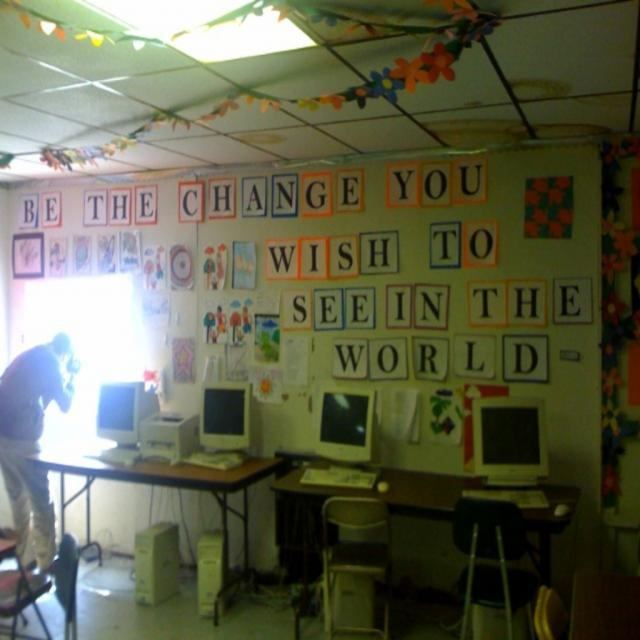chair: (448, 495, 542, 640), (321, 497, 393, 640), (1, 530, 78, 639)
desk: (15, 406, 256, 640)
keyboard: (298, 466, 378, 491)
person: (0, 330, 82, 571)
tv: (471, 399, 549, 485), (317, 389, 375, 465), (200, 384, 250, 452), (95, 380, 144, 446)
